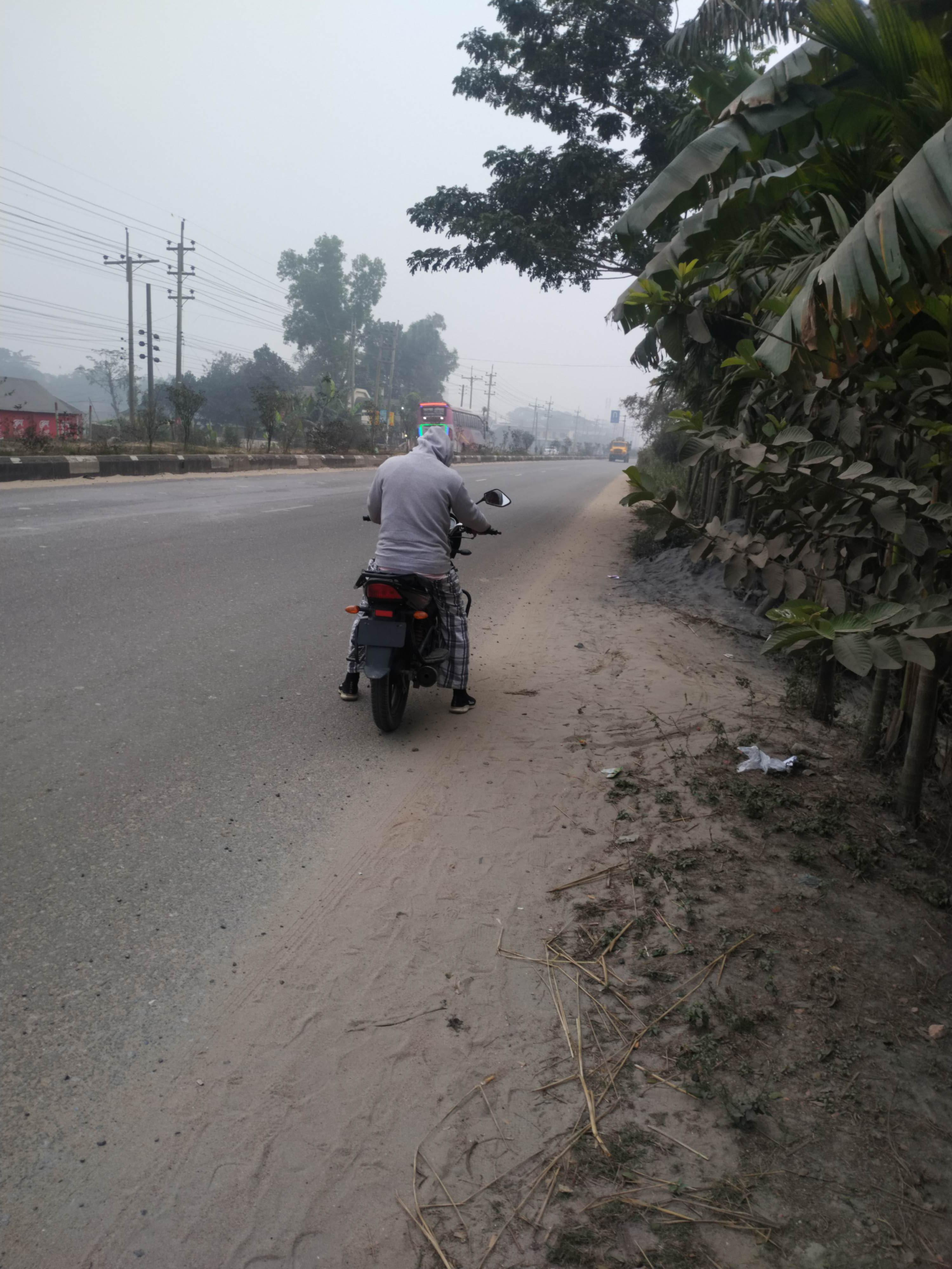Bike: (311, 412, 534, 747)
Bus: (414, 383, 504, 473)
Truck: (601, 432, 641, 472)
